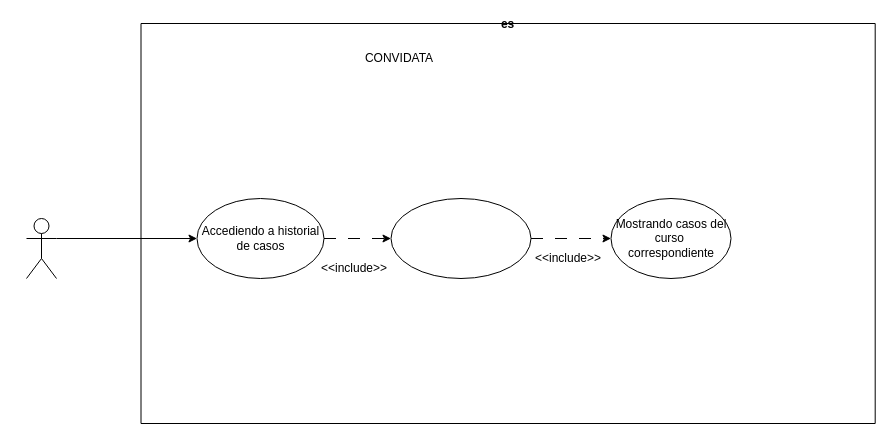
The diagram is 893 pixels wide and 441 high, and some of its shapes have lost their labels. Each missing label, with the centre of its shape:
"Filtrando casos del curso" belongs at [460,238].
"Profesor" belongs at [41,248].
